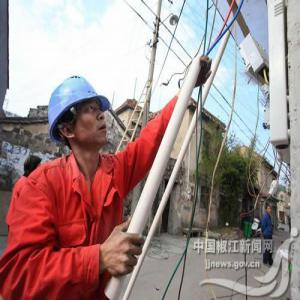blue: (48, 74, 112, 157)
none: (266, 205, 272, 215)
